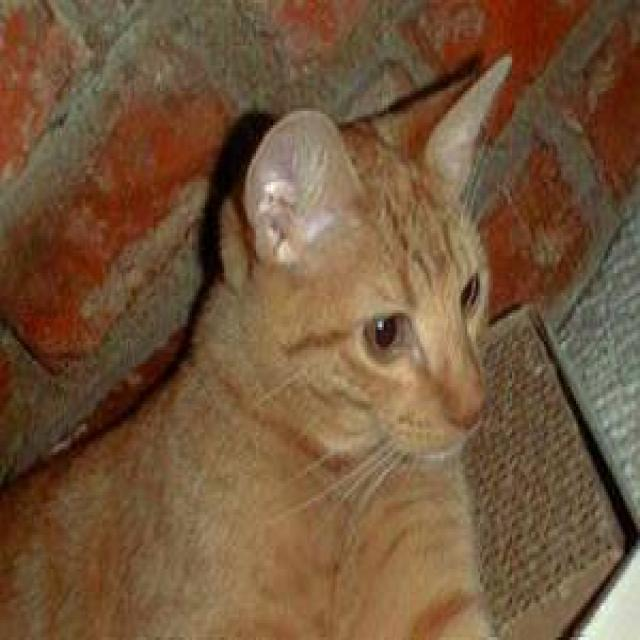Bengal: (220, 51, 510, 467)
